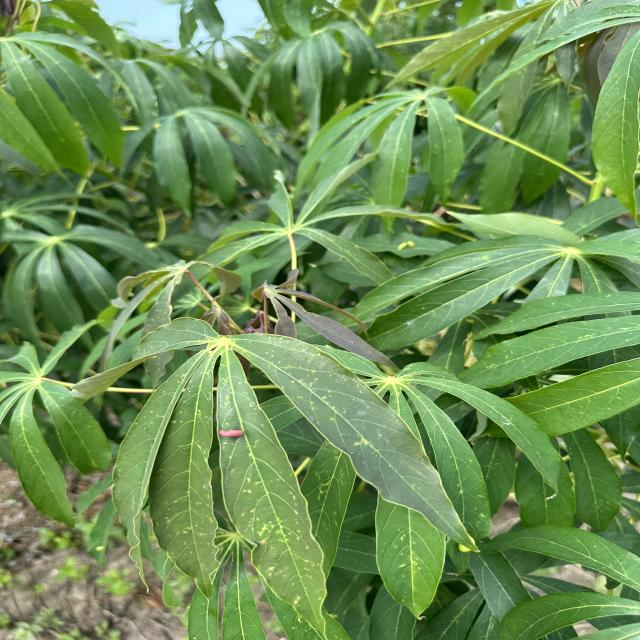Mosca: (459, 522, 487, 569), (213, 420, 249, 448), (396, 230, 418, 252)
